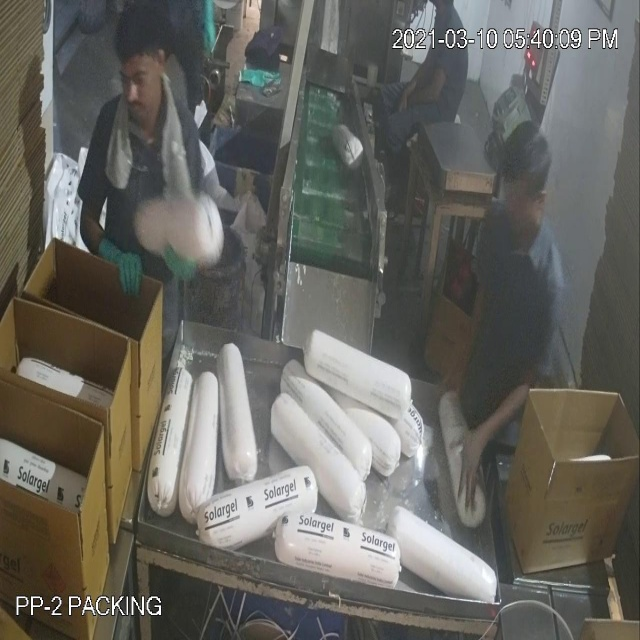Guantes: (86, 223, 148, 298)
Sin_guantes: (440, 357, 550, 508), (401, 70, 454, 115)
